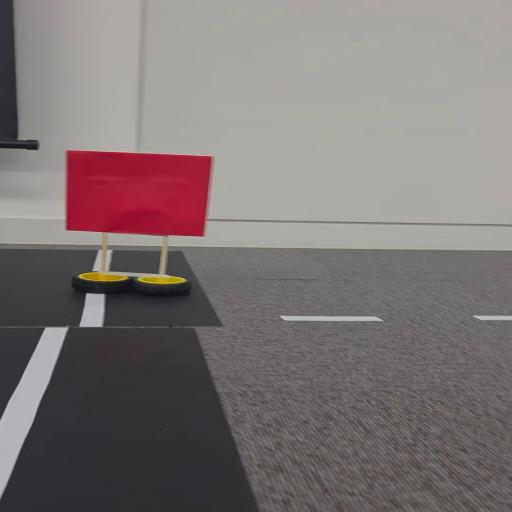Sign_A: (57, 150, 213, 300)
